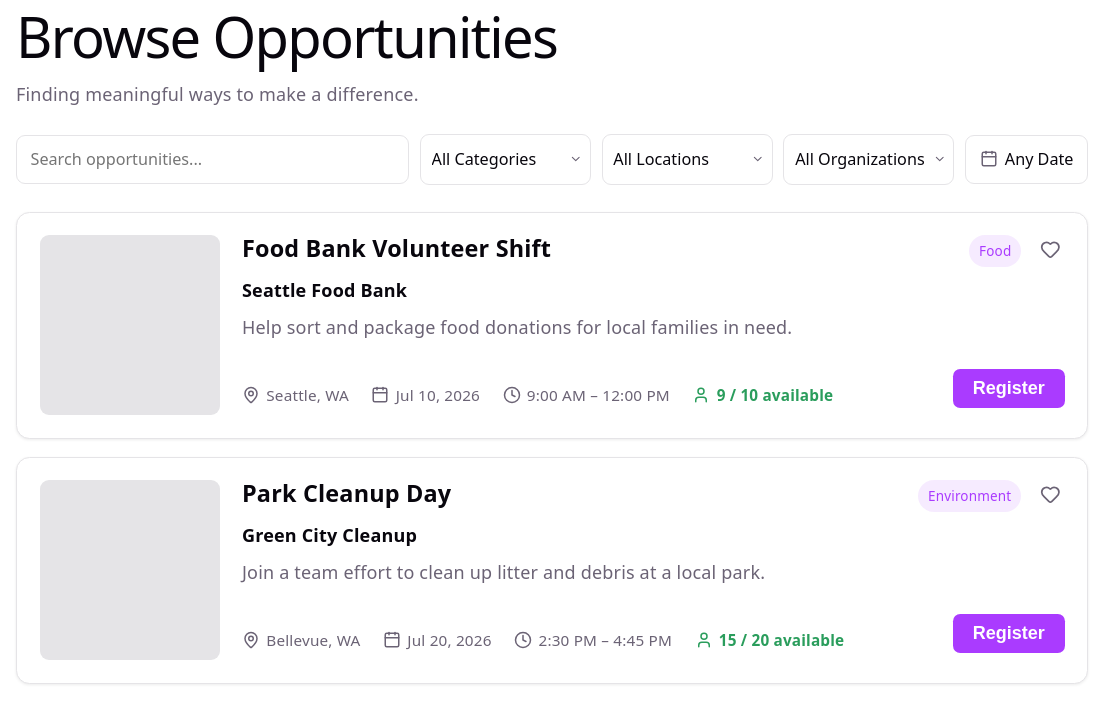
Test: OpportunitiesPage › filters the visible list when a category is selected
Expected: the heading "Food Bank Volunteer Shift" is shown, left=242, top=235, right=551, bottom=261
Select "Environment" in the dropdown named "Filter by category" at (505, 159), box left=420, top=134, right=591, bottom=185
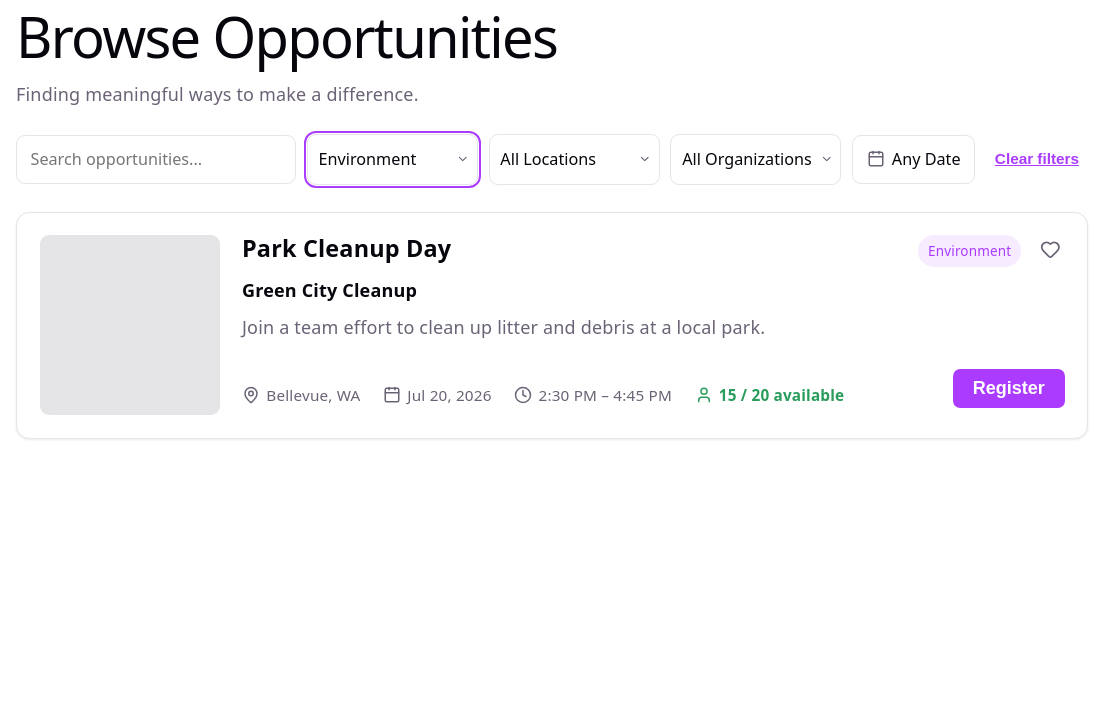
Expected: the heading "Park Cleanup Day" is shown, left=242, top=235, right=451, bottom=261
Expected: the heading "Food Bank Volunteer Shift" is gone
